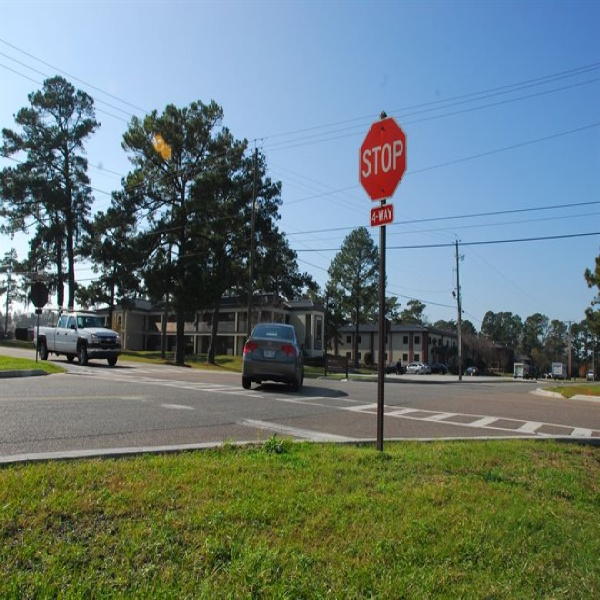stop: (355, 115, 409, 199)
